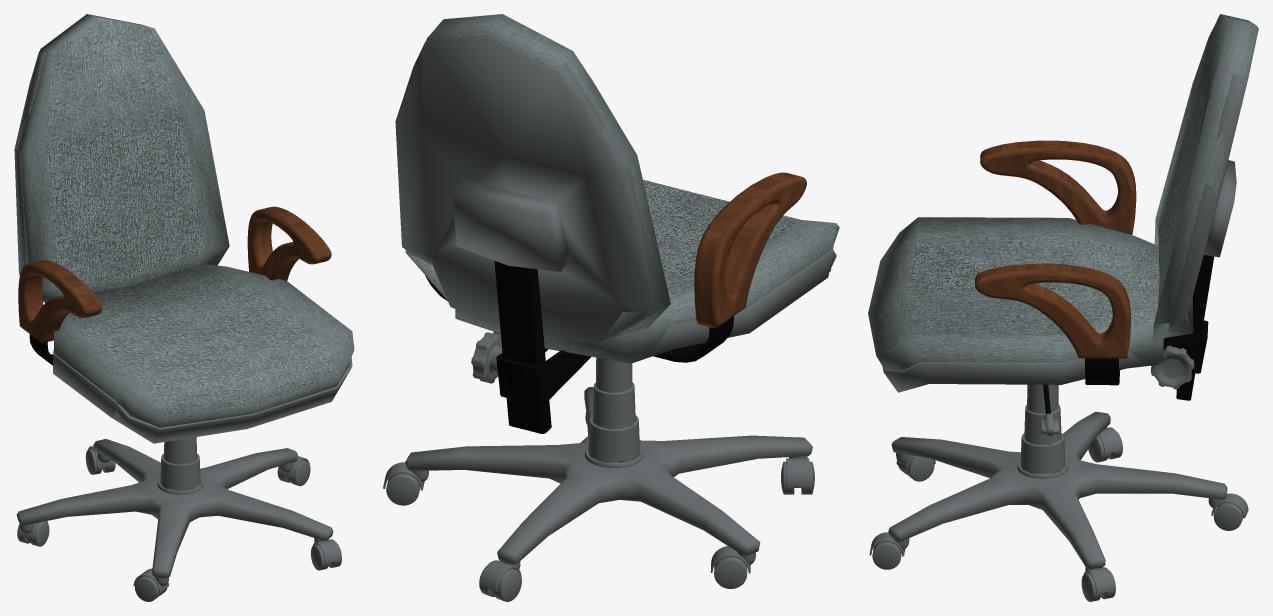
File: office-chair.glb
3 views of the same model, side by side, from view 1: azimuth 30°, elevation 25°; view 2: azimuth 150°, elevation 25°; view 3: azimuth 270°, elevation 25° (orthographic). The views are drawn at different scales.
Visible parts, largest first — view 1: Cube.001, Cube_2, Cylinder, Низ_сидения_3, Выдавливание, Cone, Закругление_1, Закругление_2, Низ_сидения, Шапка_1, Шапка_2, Oil_Tank (+1 smaller); view 2: Низ_сидения, Cylinder, Cube_2, Cube.001, Стойка_спинки, Cone, Низ_сидения_3, Выдавливание, Extrude_NURBS_2, Закругление_1, Шапка_1, Симметрия_1 (+7 smaller); view 3: Cube_2, Cylinder, Cube.001, Низ_сидения, Низ_сидения_3, Закругление_1, Выдавливание, Закругление_2, Cone, Шапка_1, Шапка_2, Стойка_спинки (+7 smaller).
Part boxes in pixels (x1,y1,x2,y2): Cube.001: [15, 14, 229, 303]; Cube_2: [54, 264, 354, 427]; Cylinder: [16, 439, 333, 578]; Низ_сидения_3: [53, 349, 352, 443]; Выдавливание: [28, 206, 329, 342]; Cone: [157, 437, 203, 494]; Закругление_1: [18, 206, 331, 342]; Закругление_2: [40, 209, 317, 330]; Низ_сидения: [14, 51, 45, 275]; Шапка_1: [18, 268, 82, 338]; Шапка_2: [248, 214, 311, 278]; Oil_Tank: [135, 576, 167, 601]; Низ_сидения: [395, 34, 662, 343]; Cylinder: [405, 387, 812, 564]; Cube_2: [455, 179, 839, 362]; Cube.001: [405, 14, 670, 339]; Стойка_спинки: [494, 260, 551, 433]; Cone: [584, 357, 643, 467]; Низ_сидения_3: [457, 249, 836, 363]; Выдавливание: [697, 172, 799, 328]; Extrude_NURBS_2: [496, 348, 591, 405]; Закругление_1: [711, 176, 806, 328]; Шапка_1: [719, 183, 806, 322]; Симметрия_1: [425, 275, 733, 362]; Cube_2: [868, 217, 1164, 379]; Cylinder: [888, 411, 1227, 569]; Cube.001: [1153, 14, 1257, 340]; Низ_сидения: [1168, 27, 1258, 336]; Низ_сидения_3: [882, 350, 1159, 392]; Закругление_1: [975, 140, 1130, 358]; Выдавливание: [975, 141, 1136, 340]; Закругление_2: [976, 147, 1135, 333]; Cone: [1017, 384, 1068, 478]; Шапка_1: [979, 276, 1125, 355]; Шапка_2: [984, 153, 1131, 232]; Стойка_спинки: [1176, 255, 1214, 400].
Size of the model in its own units: 6.52 by 9.72 by 6.81.
5 materials, 3 textured.
